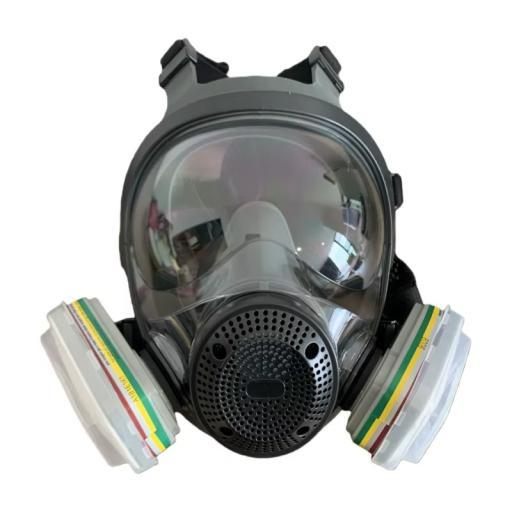mask: (27, 17, 480, 490)
